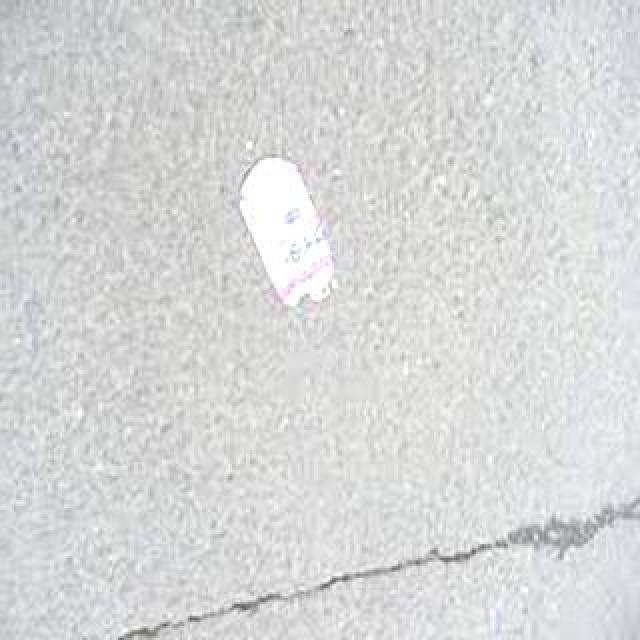Can: (209, 141, 345, 319)
